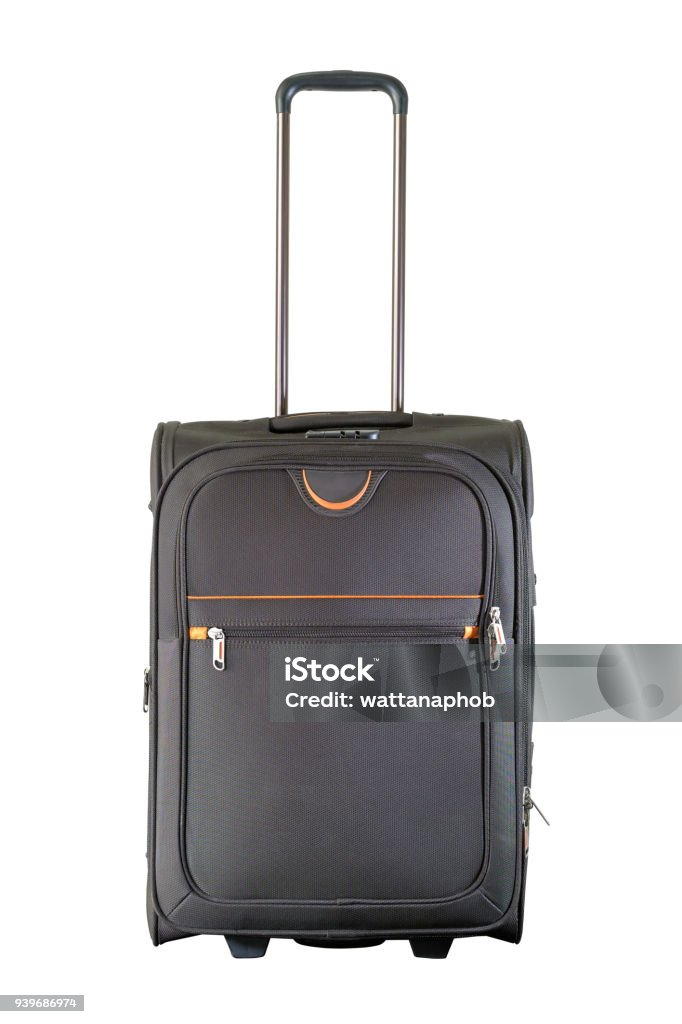Bag: (133, 63, 544, 972)
Handle: (258, 63, 426, 424)
